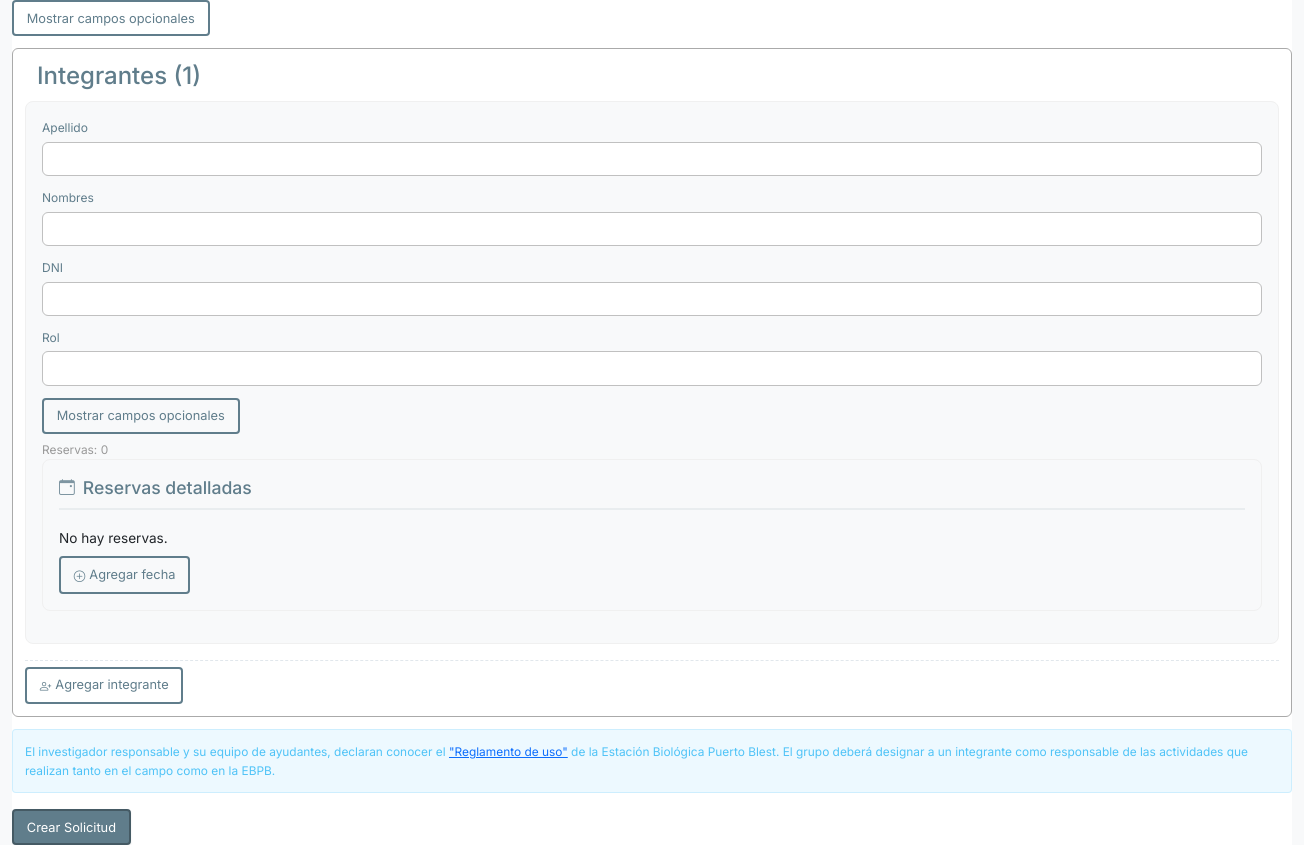
it: Formulario Investigación › muestra errores de validación frontend y no envía
(page scrolled)
Click the button "Crear Solicitud". click: (71, 827)
box: top-left (12, 809), bottom-right (131, 844)
(page scrolled)
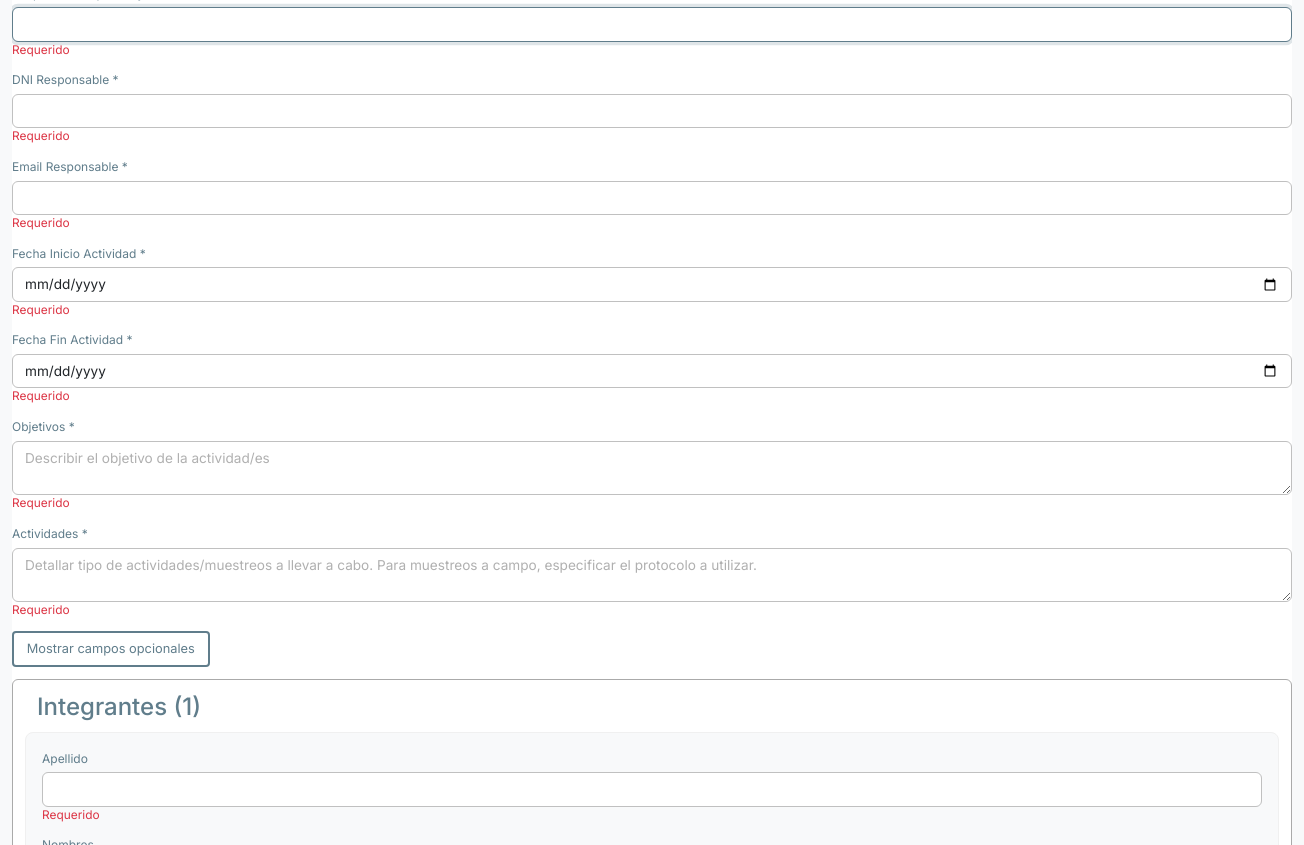
Now the text "Requerido" below "Responsable Apellido y Nombre *" is shown, box top-left (12, 42), bottom-right (70, 57)
